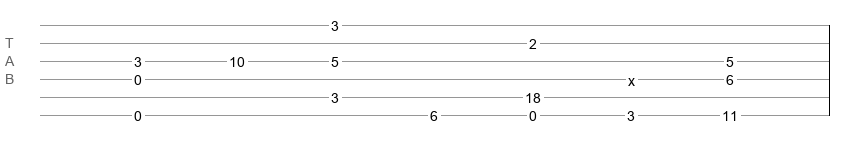0: (134, 72, 142, 82), (134, 108, 142, 118), (529, 108, 537, 118)
10: (229, 54, 245, 64)
11: (722, 108, 738, 118)
18: (525, 90, 541, 100)
2: (529, 36, 537, 46)
3: (134, 54, 142, 64), (331, 18, 339, 28), (331, 90, 339, 100), (627, 108, 635, 118)
5: (331, 54, 339, 64), (726, 54, 734, 64)
6: (430, 108, 438, 118), (726, 72, 734, 82)
x: (628, 73, 635, 81)
